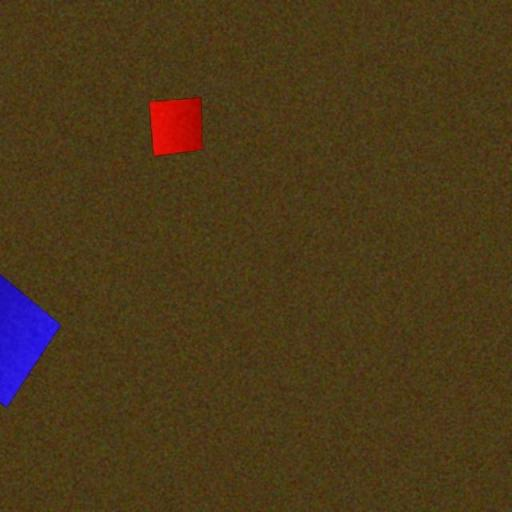BLUE_SQUARE: (0, 262, 62, 409)
RED_SQUARE: (148, 97, 203, 157)
